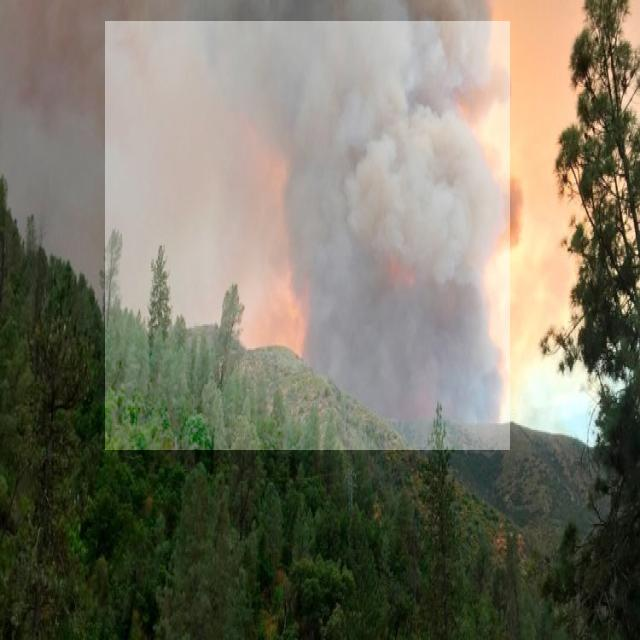Fire: (225, 188, 308, 372)
Smoke: (105, 21, 510, 450)
